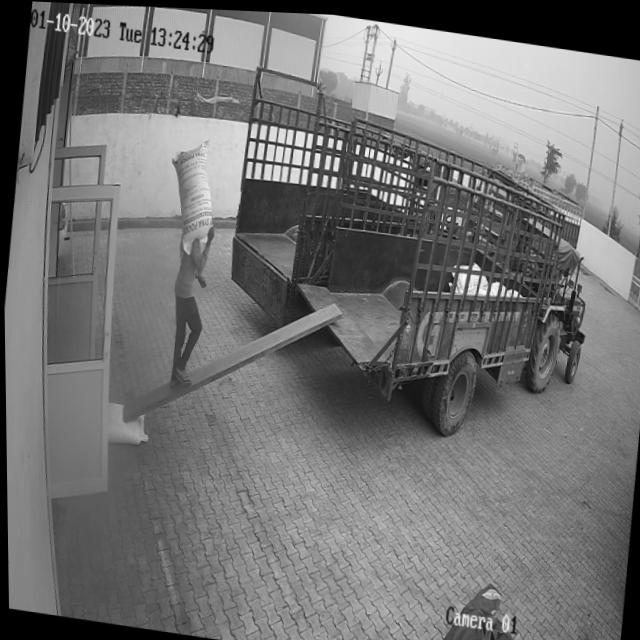sack: (159, 132, 221, 256), (102, 398, 148, 444)
